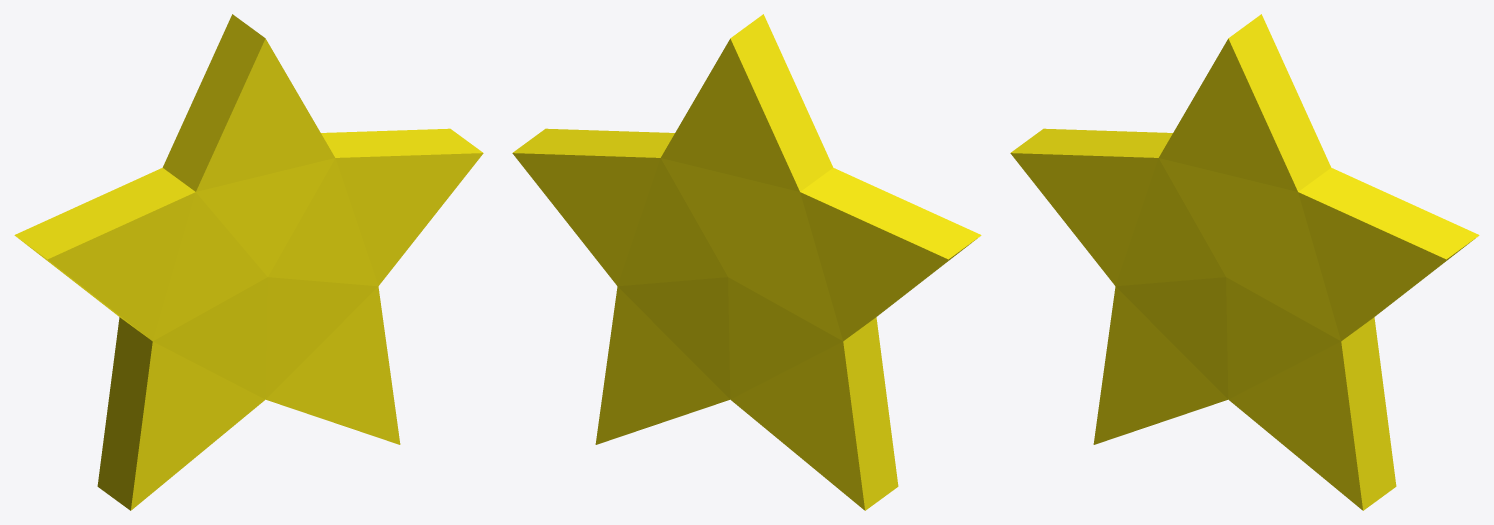
The model's file is StarYellow.fbx.
3 renders of one model, left to right at view 1: azimuth 30°, elevation 25°; view 2: azimuth 150°, elevation 25°; view 3: azimuth 330°, elevation 25°, orthographic.
Visible parts, largest first — view 1: cylinder; view 2: cylinder; view 3: cylinder.
Boxes of the visible parts, box(x1,y1,x2,y2) form: cylinder: box(14, 14, 483, 510); cylinder: box(512, 14, 981, 510); cylinder: box(1010, 14, 1479, 510).
Size of the model in its own units: 71 by 68.38 by 10.62.
1 material, 1 textured.
